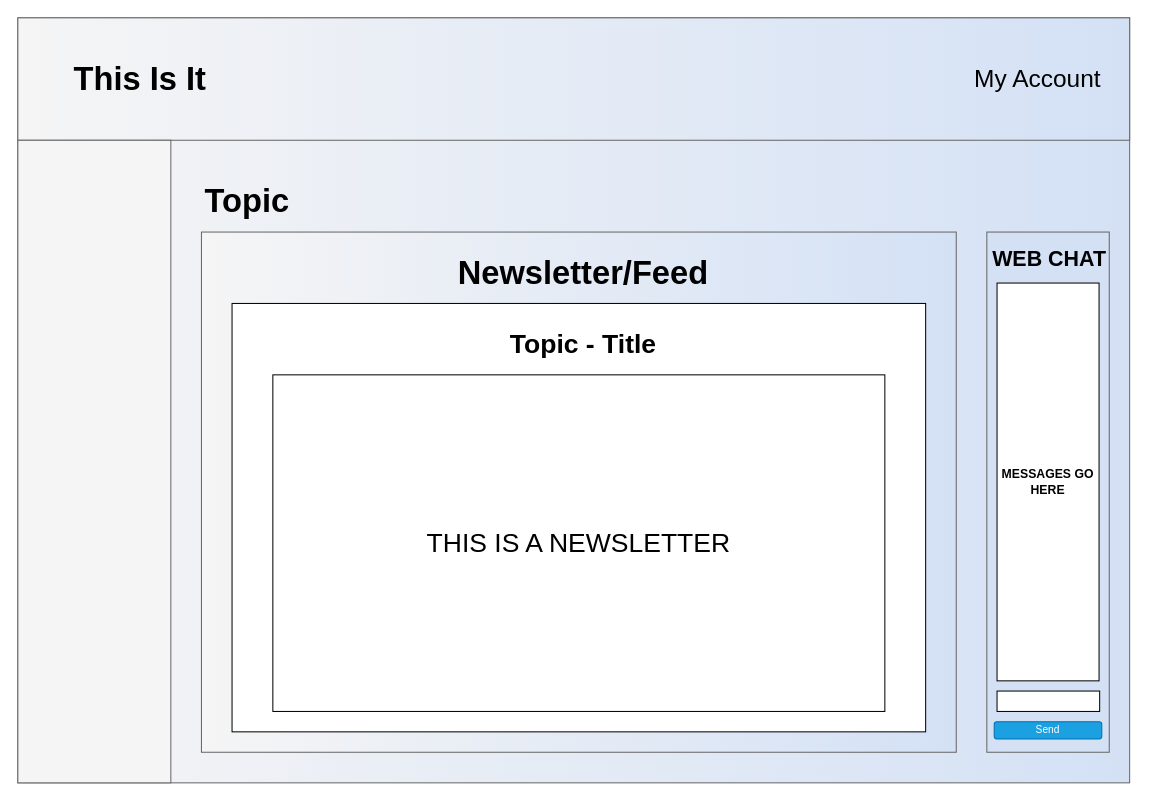
Some shapes in this 1170 by 801 pixel diagram are drawn without their labels. Each missing label, with the centre of its shape:
"Enter Message" goes at [1048,700].
"TOPICS" goes at [94,461].
